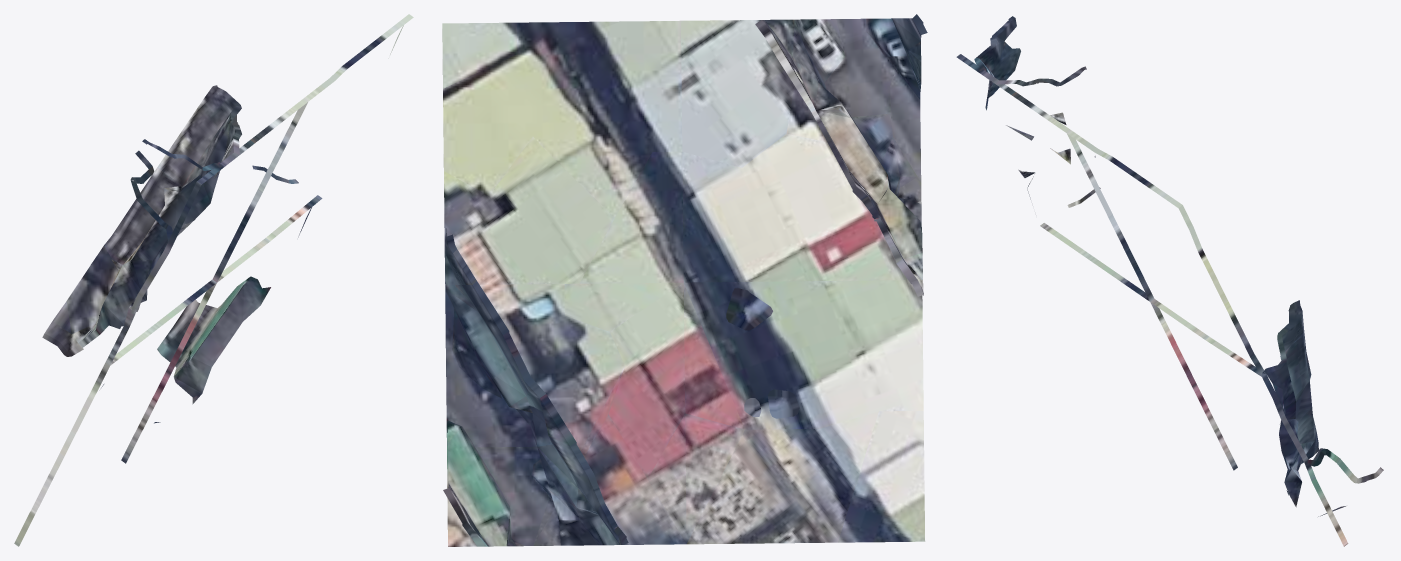
3 views of the same model, side by side, from view 1: azimuth 30°, elevation 25°; view 2: azimuth 150°, elevation 25°; view 3: azimuth 270°, elevation 25° (orthographic). The views are drawn at different scales.
Size of the model in its own units: 38.11 by 37.25 by 35.32.
Materials: 1 (1 with a texture image).
